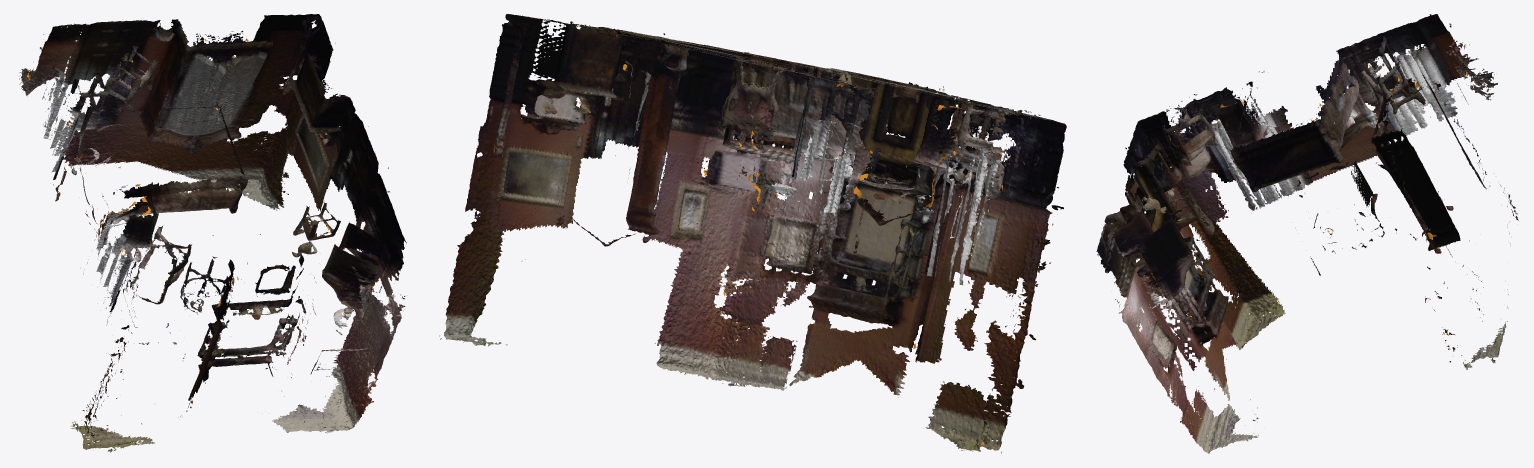
Rendered from combined-provenance.glb.
3 views of the same model, side by side, from view 1: azimuth 30°, elevation 25°; view 2: azimuth 150°, elevation 25°; view 3: azimuth 270°, elevation 25° (orthographic). The views are drawn at different scales.
Visible parts, largest first — view 1: world; view 2: world; view 3: world.
Part boxes in pixels (x1=…): world: x1=19, y1=14, x2=406, y2=452; world: x1=439, y1=14, x2=1066, y2=453; world: x1=1096, y1=14, x2=1518, y2=453.
Size of the model in its own units: 6.01 by 6.45 by 7.01.
